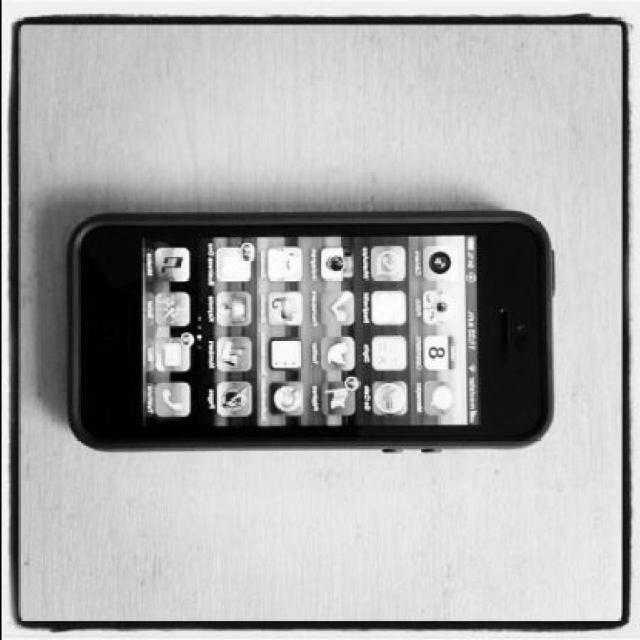fake: (64, 210, 558, 458)
